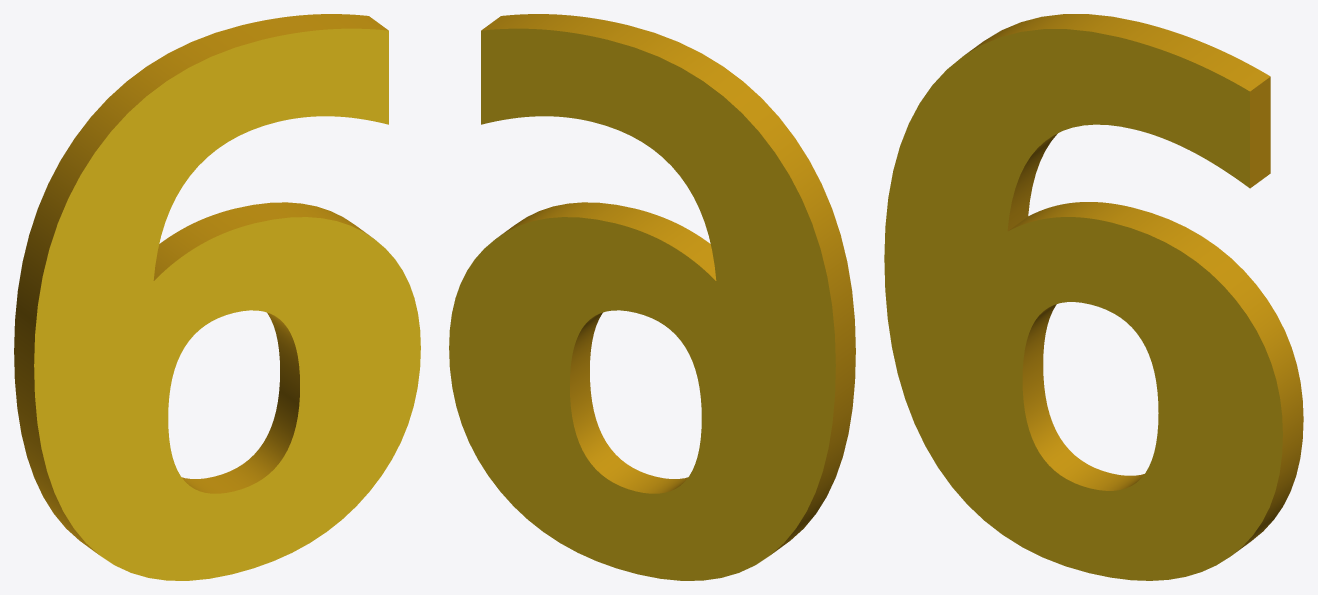
Rendered from Digito6.obj.
The picture shows the model from 3 angles, left to right: view 1: azimuth 30°, elevation 25°; view 2: azimuth 150°, elevation 25°; view 3: azimuth 330°, elevation 25°; orthographic projection. The views are drawn at different scales.
Visible parts, largest first — view 1: Digito6; view 2: Digito6; view 3: Digito6.
Boxes of the visible parts, <box> form: Digito6: <box>14,14,420,580</box>; Digito6: <box>449,14,855,580</box>; Digito6: <box>884,14,1303,580</box>.
Bounding box in the file's own units: 0.4455 × 0.5803 × 0.04.
1 material, 1 textured.
